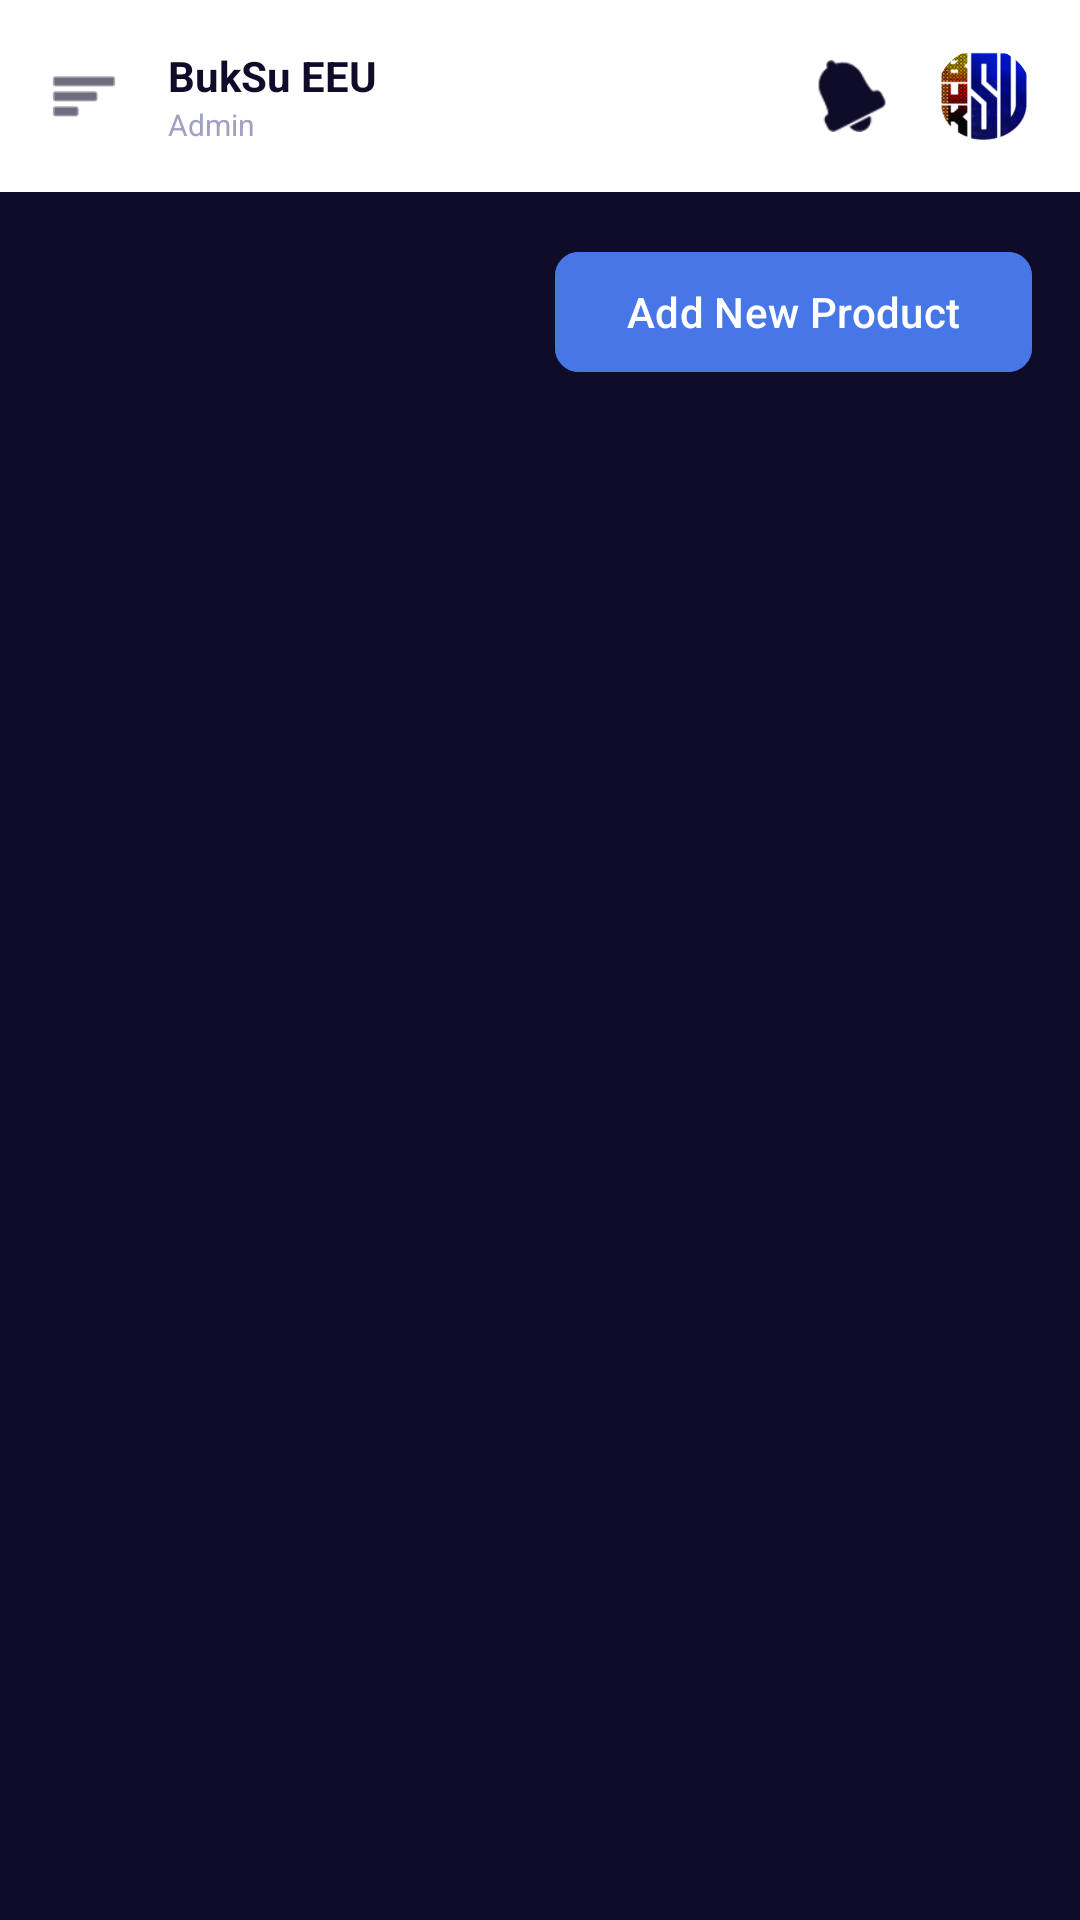

Named icons in this screenshot (1080w x 1920h) and their bounding boxes, (x1, y1, x2, y2):
popup reminder: (818, 60, 886, 132)
sort by size: (53, 76, 115, 117)
